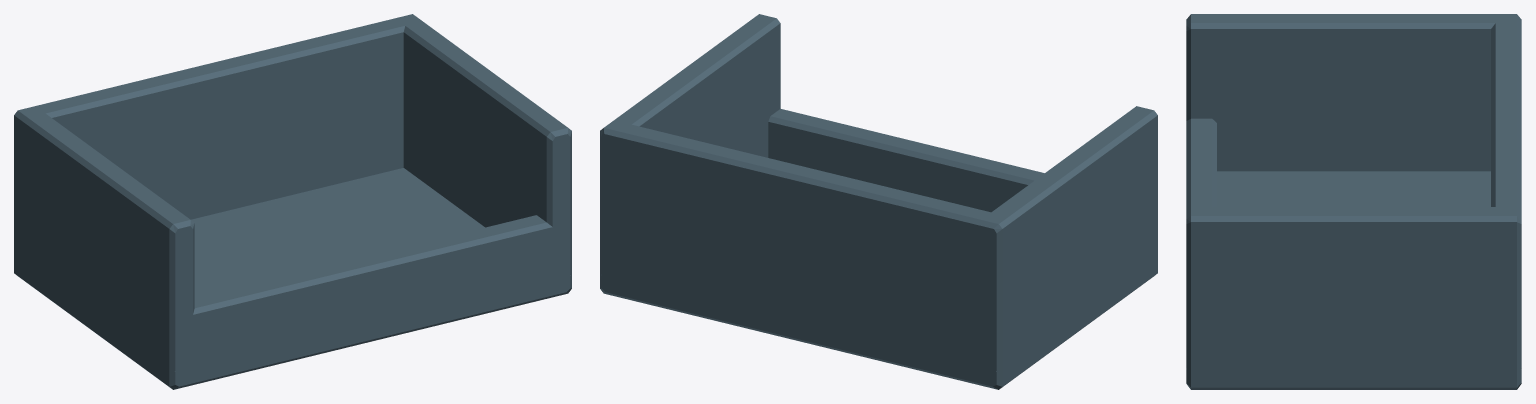
Rendered from 20_EmptyPartsTray.obj.
3 renders of one model, left to right at view 1: azimuth 30°, elevation 25°; view 2: azimuth 150°, elevation 25°; view 3: azimuth 270°, elevation 25°, orthographic. The views are drawn at different scales.
Bounding box in the file's own units: 0.8 × 0.315 × 0.55.
